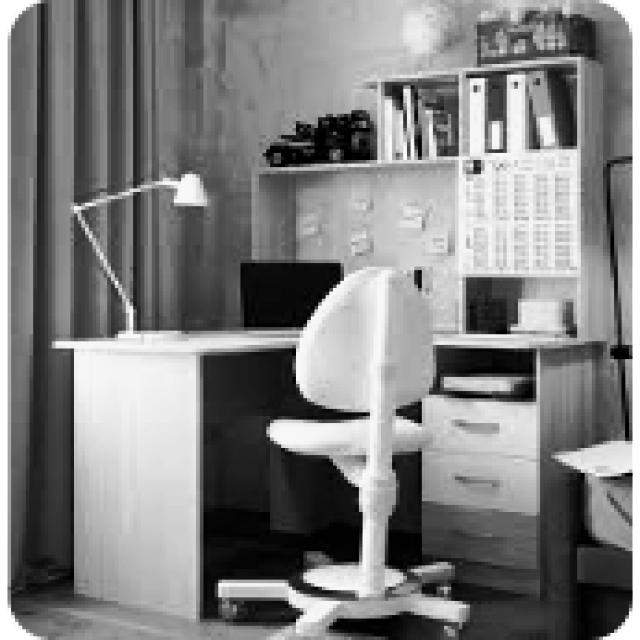book: (252, 277, 476, 630)
table: (48, 324, 607, 622)
